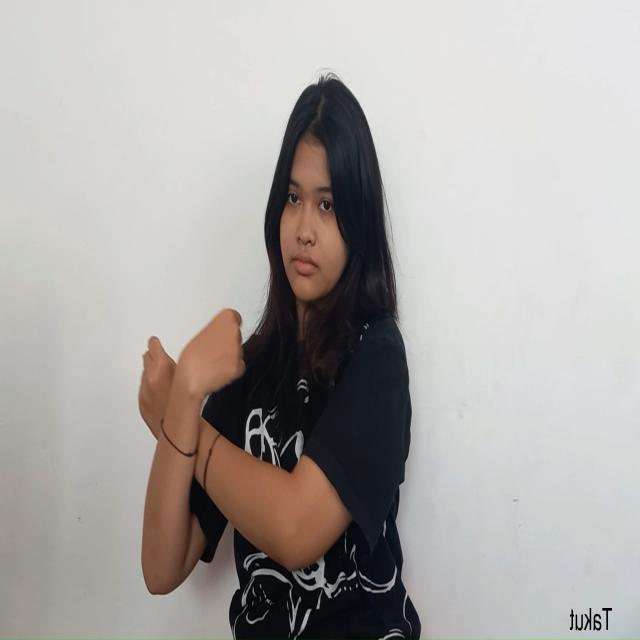Takut -BISINDO-: (138, 308, 248, 496)
